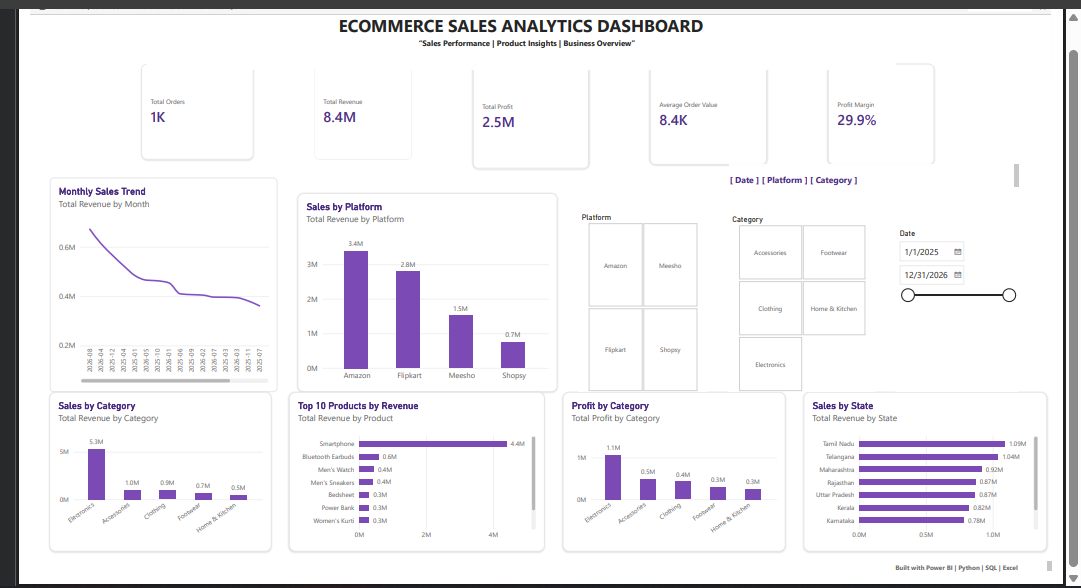

The dashboard page shown, as its layout file describes it:
{"tool":"powerbi","page":{"name":"Page 1","canvas":[1920,1080],"ordinal":0},"visuals":[{"type":"cardVisual","fields":{"Data":["Orders.Total Orders"]},"box":[207.5,126.2,211.2,180],"z":0},{"type":"cardVisual","fields":{"Data":["Order_Details.Total Revenue"]},"box":[533.6,126.2,183,180],"z":1000},{"type":"cardVisual","fields":{"Data":["Order_Details.Total Profit"]},"box":[831.5,126.2,218.8,197.5],"z":2000},{"type":"cardVisual","fields":{"Data":["Orders.Average Order Value"]},"box":[1165.1,126.2,220,190],"z":3000},{"type":"cardVisual","fields":{"Data":["Orders.Profit Margin"]},"box":[1500,126.2,200,190],"z":4000},{"type":"lineChart","title":"Monthly Sales Trend","fields":{"Category":["DateTable.Month"],"Y":["Order_Details.Total Revenue"]},"box":[35.7,340,428.6,402.9],"z":5000},{"type":"clusteredColumnChart","title":"Sales by Platform","fields":{"Category":["Orders.Platform"],"Y":["Order_Details.Total Revenue"]},"box":[502.4,368.6,488.6,374.3],"z":6000},{"type":"clusteredColumnChart","title":"Sales by Category","fields":{"Category":["Order_Details.Category"],"Y":["Order_Details.Total Revenue"]},"box":[35,742.5,417.5,300],"z":7000},{"type":"barChart","title":"Top 10 Products by Revenue","fields":{"Category":["Order_Details.Product"],"Y":["Order_Details.Total Revenue"]},"box":[486.2,742.5,481.2,300],"z":8000},{"type":"clusteredColumnChart","title":"Profit by Category","fields":{"Category":["Order_Details.Category"],"Y":["Order_Details.Total Profit"]},"box":[1001.2,742.5,418.8,300],"z":9000},{"type":"clusteredBarChart","title":"Sales by State","fields":{"Category":["Orders.State"],"Y":["Order_Details.Total Revenue"]},"box":[1453.7,742.5,458.8,300],"z":10000},{"type":"textbox","box":[217,31,1411,107],"z":11000},{"type":"slicer","fields":{"Values":["Orders.Platform"]},"box":[1029.1,405.7,244.3,337.1],"z":12000},{"type":"slicer","fields":{"Values":["Order_Details.Category"]},"box":[1311.5,410.4,277.5,332.5],"z":13000},{"type":"textbox","box":[730.1,75.6,514.1,49.7],"z":14000},{"type":"slicer","fields":{"Values":["DateTable.Date"]},"box":[1627.1,437.1,230,305.7],"z":15000},{"type":"textbox","box":[1315.4,315.4,542.2,49.7],"z":16000},{"type":"textbox","box":[1626.9,1061.7,293.1,18.5],"z":17000}]}

Visuals, with their boxes on the page's 1920x1080 design canvas (x1, y1, x2, y2). These are canvas units, not pixel positions in the 1081x588 screenshot, which may show the page scaled, cropped or inside an application window:
cardVisual - Orders.Total Orders: (x1=208, y1=126, x2=419, y2=306)
cardVisual - Order_Details.Total Revenue: (x1=534, y1=126, x2=717, y2=306)
cardVisual - Order_Details.Total Profit: (x1=832, y1=126, x2=1050, y2=324)
cardVisual - Orders.Average Order Value: (x1=1165, y1=126, x2=1385, y2=316)
cardVisual - Orders.Profit Margin: (x1=1500, y1=126, x2=1700, y2=316)
"Monthly Sales Trend" lineChart: (x1=36, y1=340, x2=464, y2=743)
"Sales by Platform" clusteredColumnChart: (x1=502, y1=369, x2=991, y2=743)
"Sales by Category" clusteredColumnChart: (x1=35, y1=742, x2=452, y2=1042)
"Top 10 Products by Revenue" barChart: (x1=486, y1=742, x2=967, y2=1042)
"Profit by Category" clusteredColumnChart: (x1=1001, y1=742, x2=1420, y2=1042)
"Sales by State" clusteredBarChart: (x1=1454, y1=742, x2=1912, y2=1042)
textbox: (x1=217, y1=31, x2=1628, y2=138)
slicer - Orders.Platform: (x1=1029, y1=406, x2=1273, y2=743)
slicer - Order_Details.Category: (x1=1312, y1=410, x2=1589, y2=743)
textbox: (x1=730, y1=76, x2=1244, y2=125)
slicer - DateTable.Date: (x1=1627, y1=437, x2=1857, y2=743)
textbox: (x1=1315, y1=315, x2=1858, y2=365)
textbox: (x1=1627, y1=1062, x2=1920, y2=1080)
